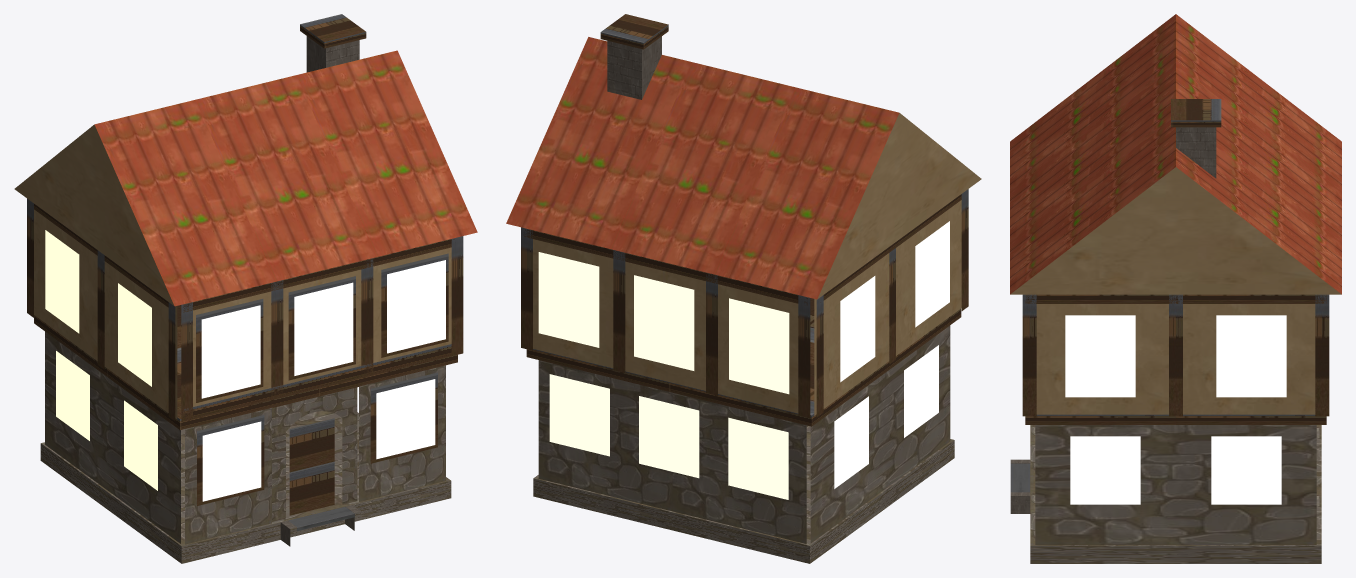
The model's file is house_a.glb.
3 renders of one model, left to right at view 1: azimuth 30°, elevation 25°; view 2: azimuth 150°, elevation 25°; view 3: azimuth 270°, elevation 25°, orthographic. The views are drawn at different scales.
Size of the model in its own units: 7.2 by 9.55 by 6.6.
Materials: 2 (1 with a texture image).
